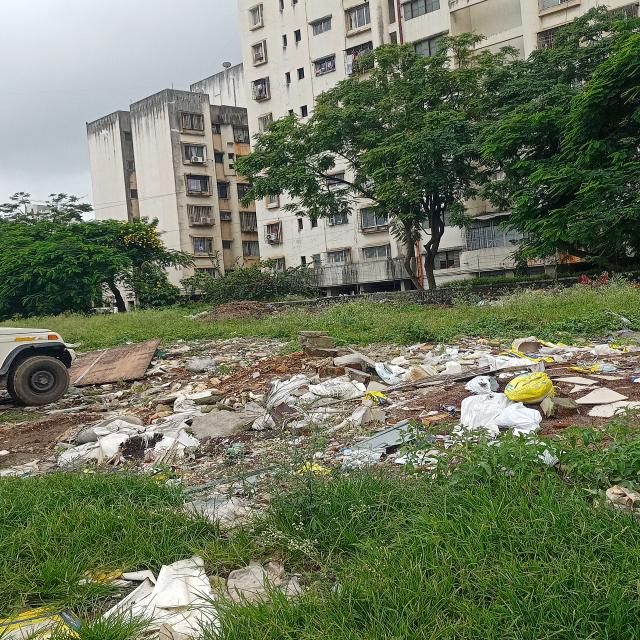garbage: (339, 337, 640, 461), (62, 341, 332, 469), (3, 558, 289, 640)
